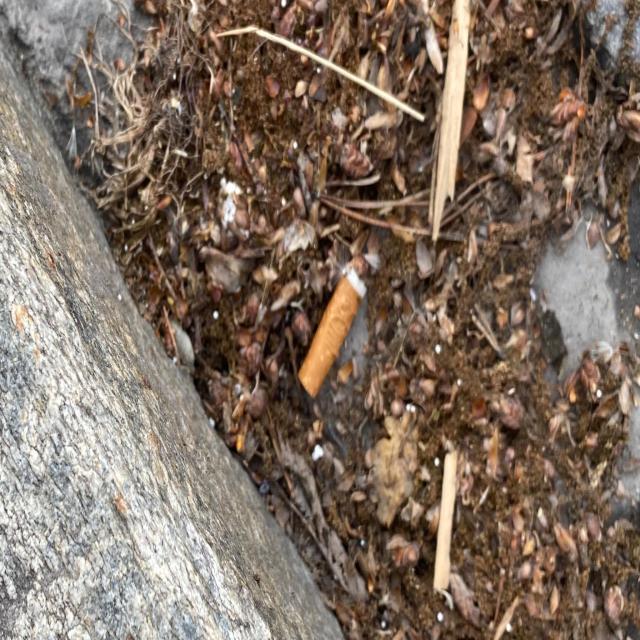other waste: (296, 265, 366, 401)
